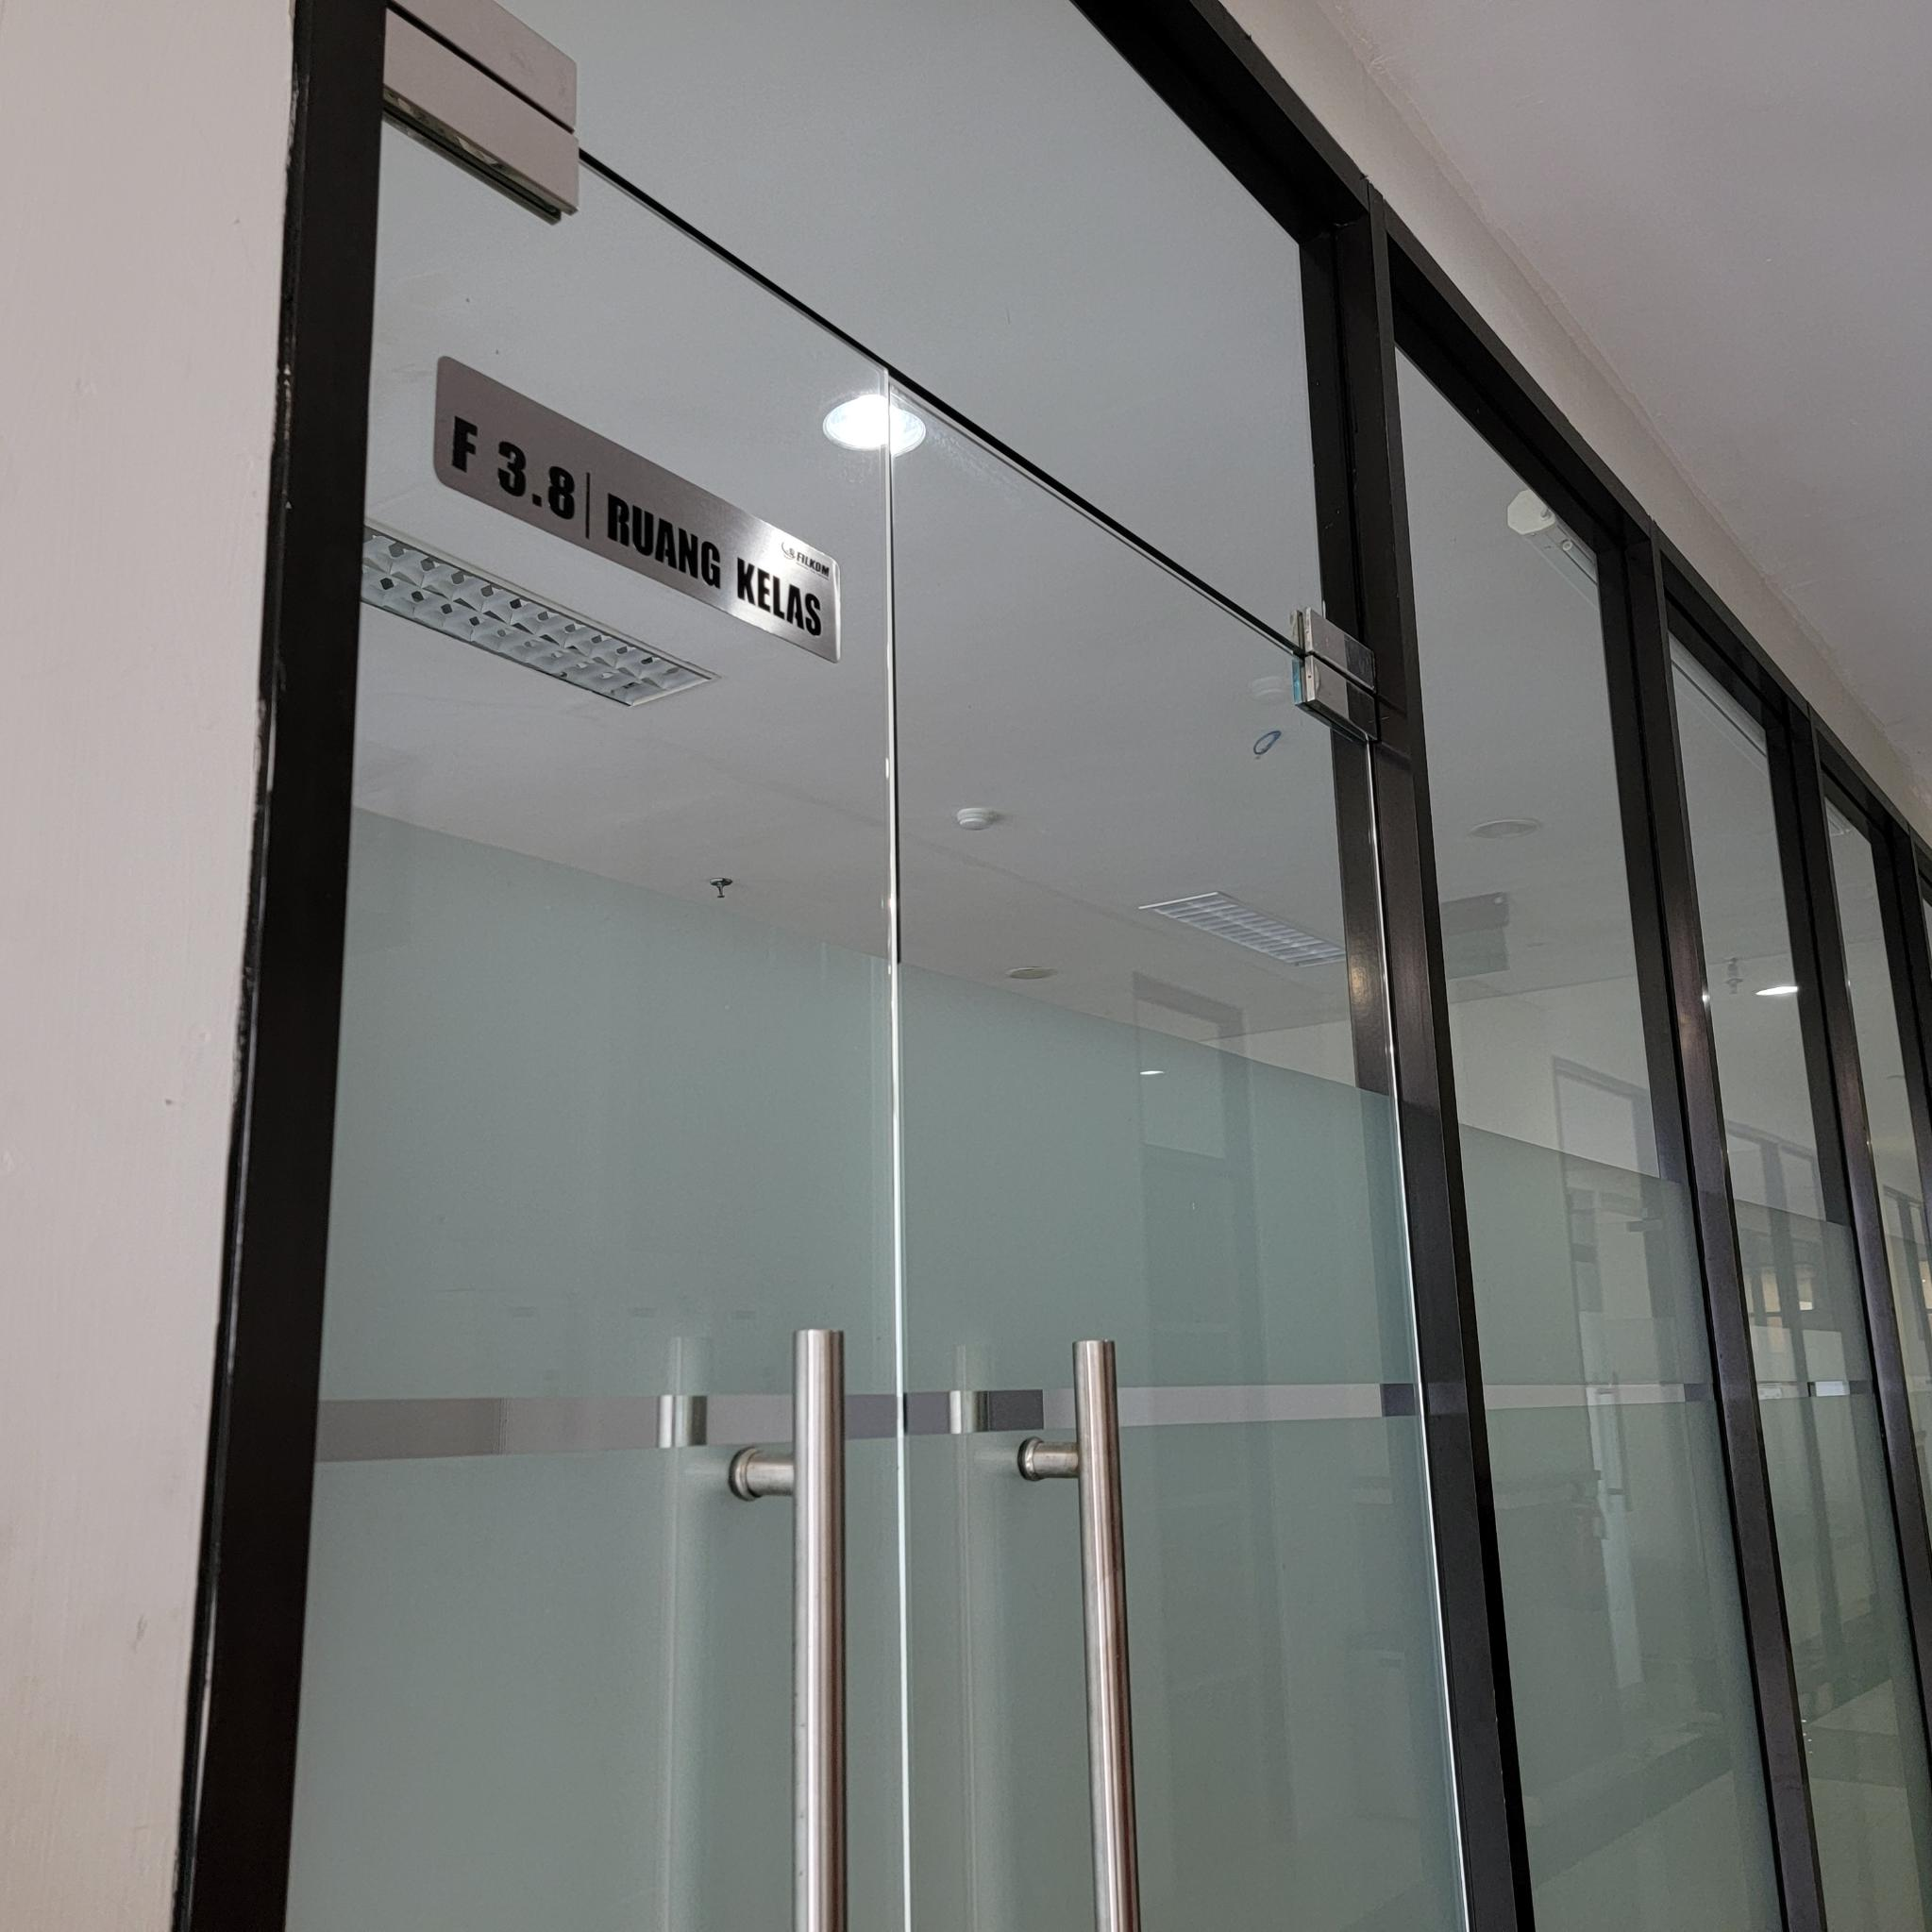plate: (430, 352, 846, 671)
